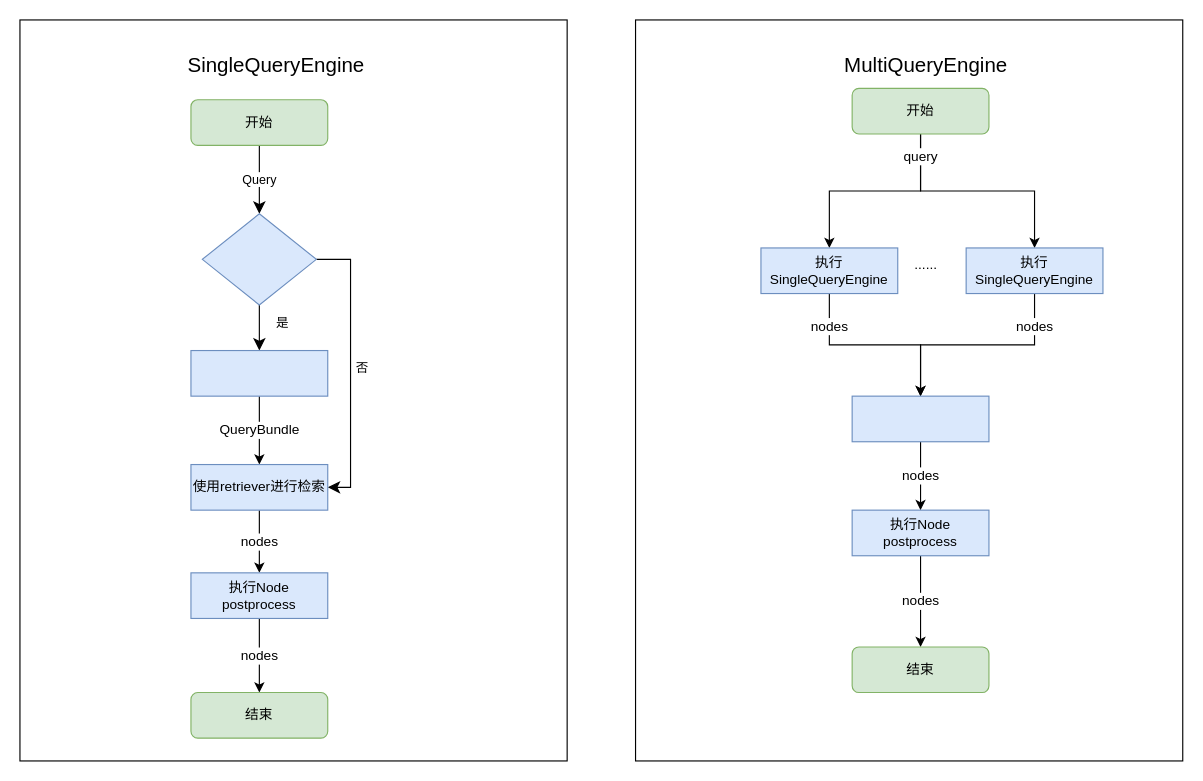
Some shapes in this 1203 by 781 pixel diagram are drawn without their labels. The shapes that lost their labels are listed below. From the top down, each one's box as (x1, y1, x2, y2) in pixels, then its label:
(201, 213, 316, 305): 是否需要执行QueryTransform
(190, 349, 328, 396): 执行QueryTransform
(851, 395, 989, 442): 执行MergeOperate
